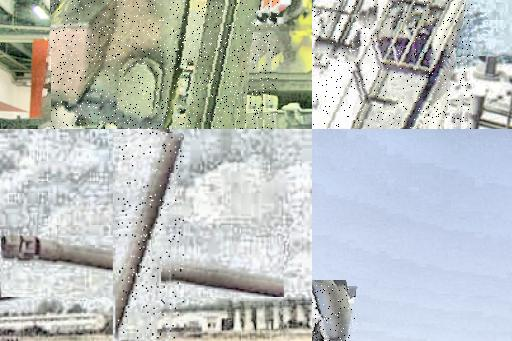tanks: (52, 1, 264, 130), (313, 1, 468, 130), (118, 133, 184, 341), (313, 286, 358, 341), (1, 339, 15, 341)
